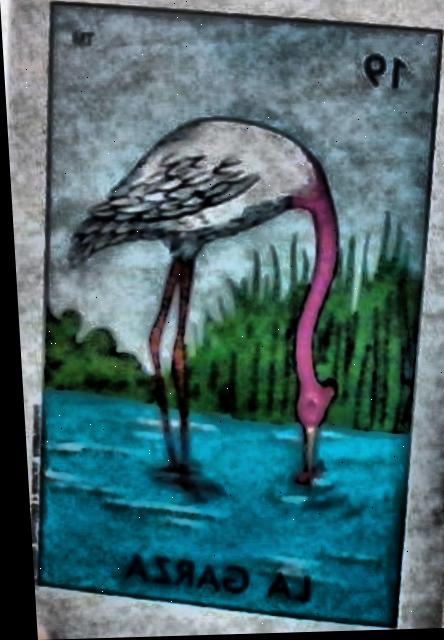La Garza: (31, 6, 438, 625)
